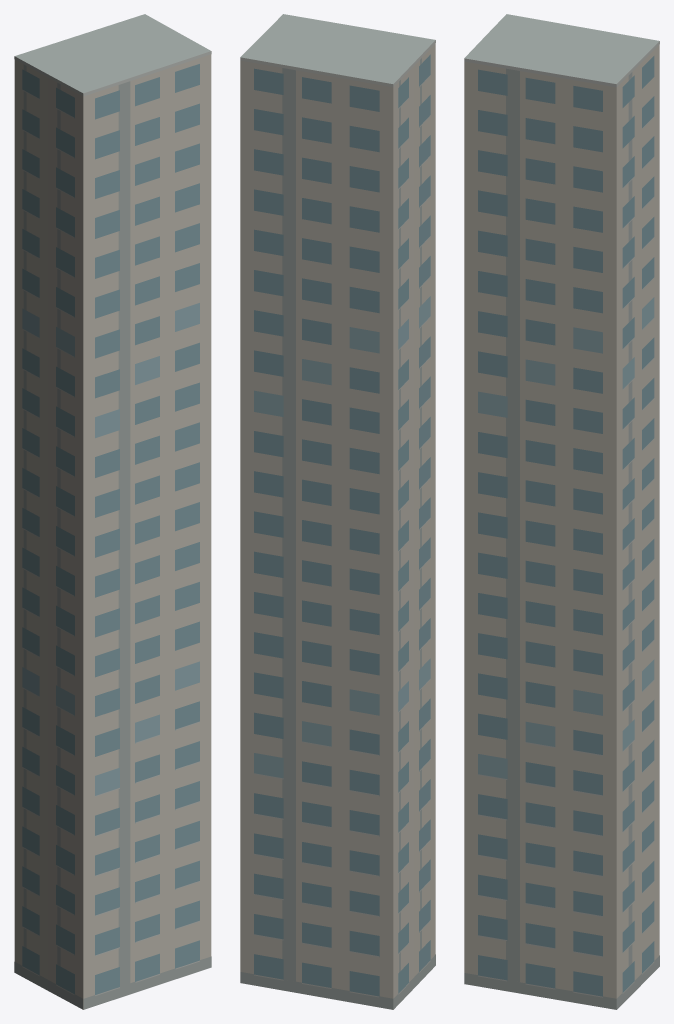
The model's file is survey-upis-32986578.glb.
The picture shows the model from 3 angles, left to right: view 1: azimuth 30°, elevation 25°; view 2: azimuth 150°, elevation 25°; view 3: azimuth 330°, elevation 25°; orthographic projection.
Visible parts, largest first — view 1: survey-upis-32986578.tmp; view 2: survey-upis-32986578.tmp; view 3: survey-upis-32986578.tmp.
Part boxes in pixels (x1=…): survey-upis-32986578.tmp: x1=14, y1=14, x2=211, y2=1009; survey-upis-32986578.tmp: x1=240, y1=14, x2=435, y2=1009; survey-upis-32986578.tmp: x1=464, y1=14, x2=659, y2=1009.
Bounding box in the file's own units: 12.27 × 70.15 × 9.17.
